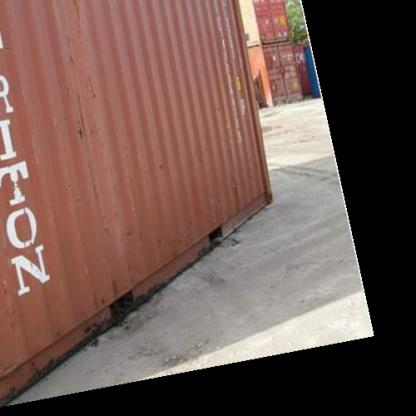Damage: (63, 18, 105, 150), (82, 269, 128, 310), (224, 165, 244, 215)
